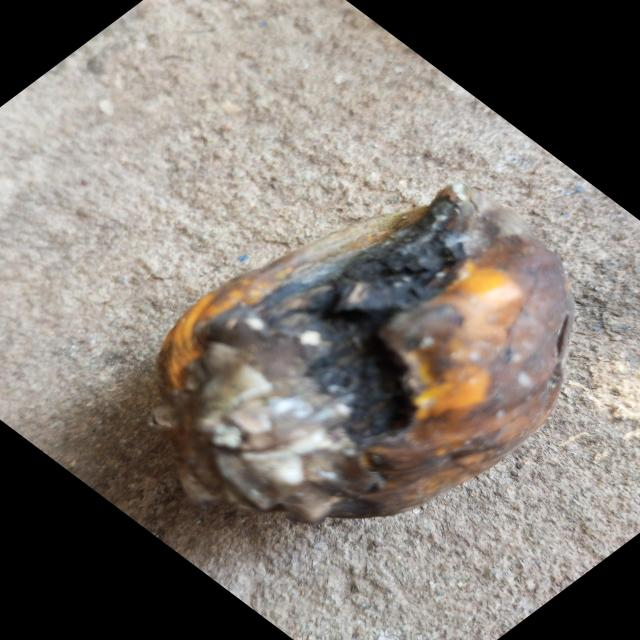damaged: (150, 189, 574, 527)
